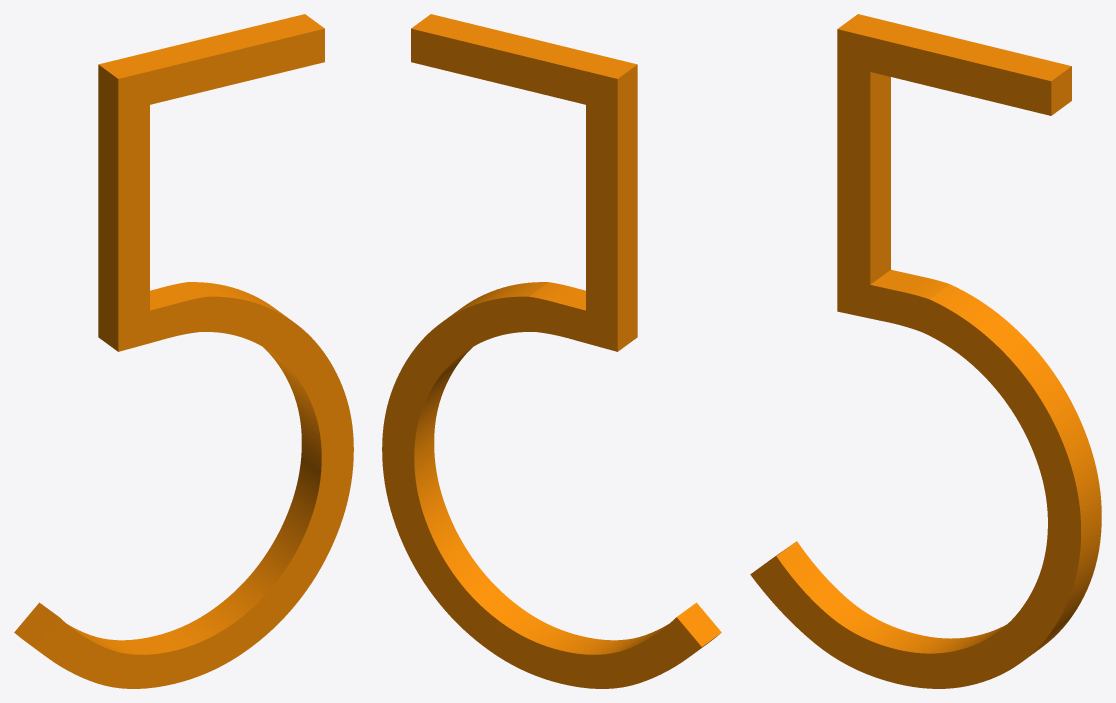
The picture shows the model from 3 angles, left to right: view 1: azimuth 30°, elevation 25°; view 2: azimuth 150°, elevation 25°; view 3: azimuth 330°, elevation 25°; orthographic projection. The views are drawn at different scales.
Parts seen in each view (by area): view 1: 5; view 2: 5; view 3: 5.
Boxes of the visible parts, x1=… form: 5: x1=14, y1=14, x2=353, y2=688; 5: x1=382, y1=14, x2=721, y2=688; 5: x1=750, y1=14, x2=1101, y2=688.
Bounding box in the file's own units: 46.29 × 85.55 × 5.
